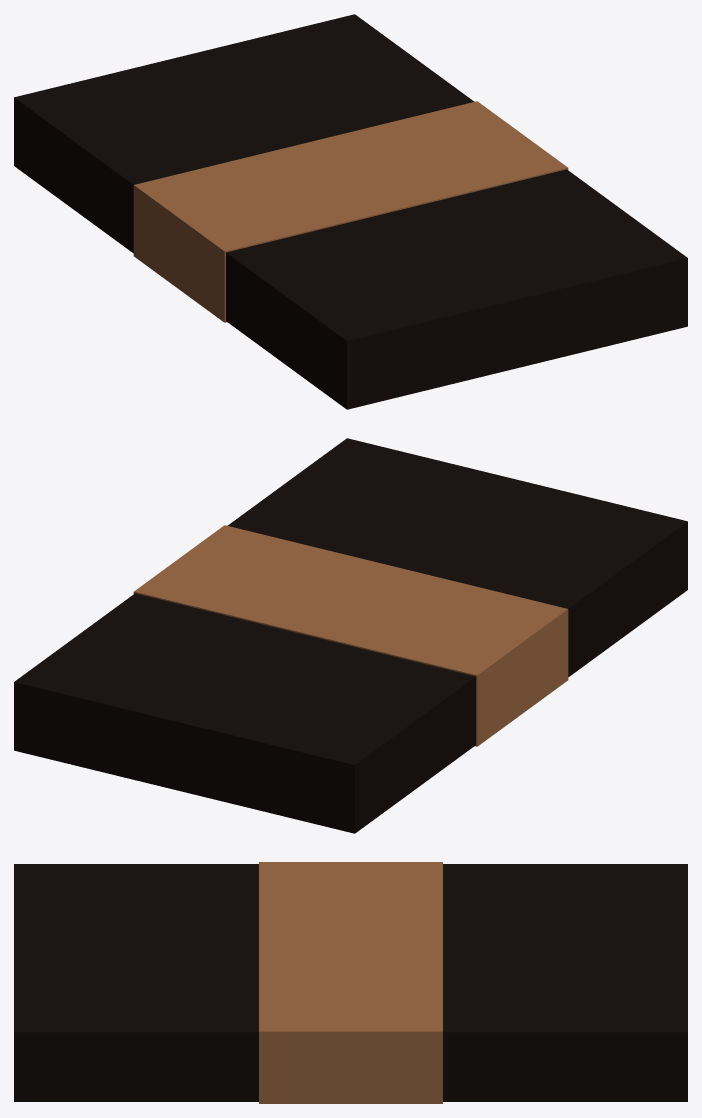
Rendered from packaging.glb.
3 views of the same model, one above another, from view 1: azimuth 30°, elevation 25°; view 2: azimuth 150°, elevation 25°; view 3: azimuth 270°, elevation 25° (orthographic).
Visible parts, largest first — view 1: OuterSleeve, CopperFoilEmbossBand; view 2: OuterSleeve, CopperFoilEmbossBand; view 3: OuterSleeve, CopperFoilEmbossBand.
Boxes of the visible parts, x1,y1,x2,y2 form: OuterSleeve: [14, 14, 687, 409]; CopperFoilEmbossBand: [133, 101, 568, 322]; OuterSleeve: [14, 438, 687, 833]; CopperFoilEmbossBand: [133, 525, 568, 746]; OuterSleeve: [14, 864, 687, 1101]; CopperFoilEmbossBand: [259, 862, 442, 1103].
Size of the model in its own units: 2.62 by 0.52 by 4.4.
